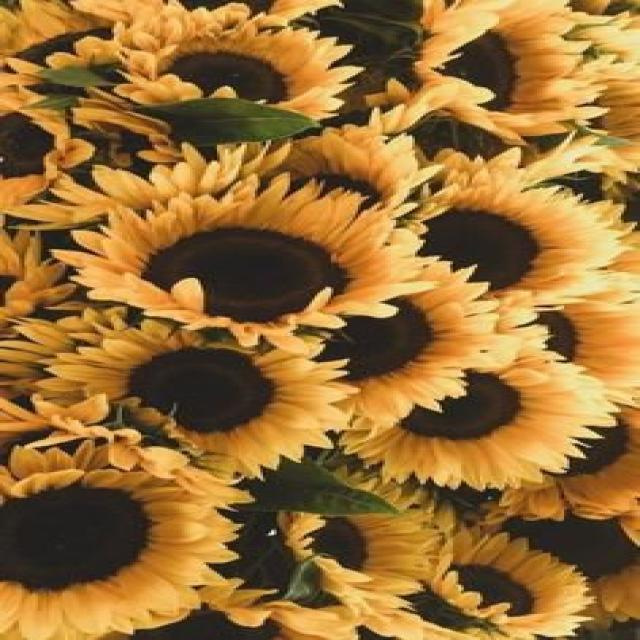sunflower: (53, 174, 440, 346), (48, 319, 360, 483), (340, 348, 618, 492), (4, 470, 239, 638), (296, 254, 493, 426), (413, 0, 603, 140), (112, 24, 363, 122), (410, 182, 624, 294), (9, 144, 249, 227), (281, 468, 435, 593), (499, 278, 640, 402), (440, 532, 596, 638), (0, 394, 192, 480), (492, 407, 640, 518), (257, 125, 438, 212), (0, 0, 184, 85), (122, 577, 358, 640), (296, 77, 493, 134), (0, 84, 90, 204), (0, 306, 129, 378), (434, 134, 605, 186), (0, 222, 78, 324), (570, 74, 640, 170)
